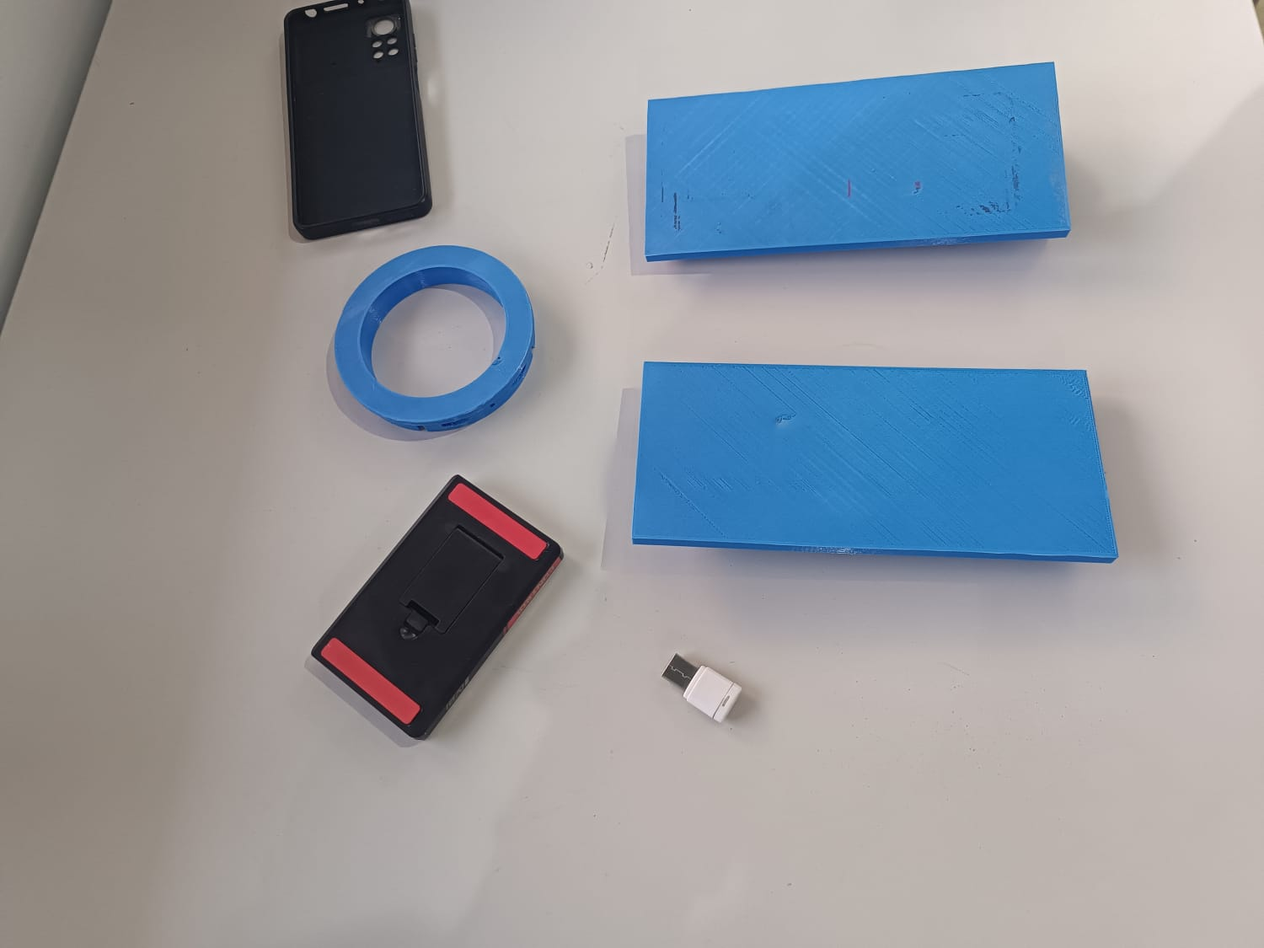Circle: (326, 238, 545, 441)
Rectangular: (625, 356, 1125, 569), (637, 57, 1075, 269)
